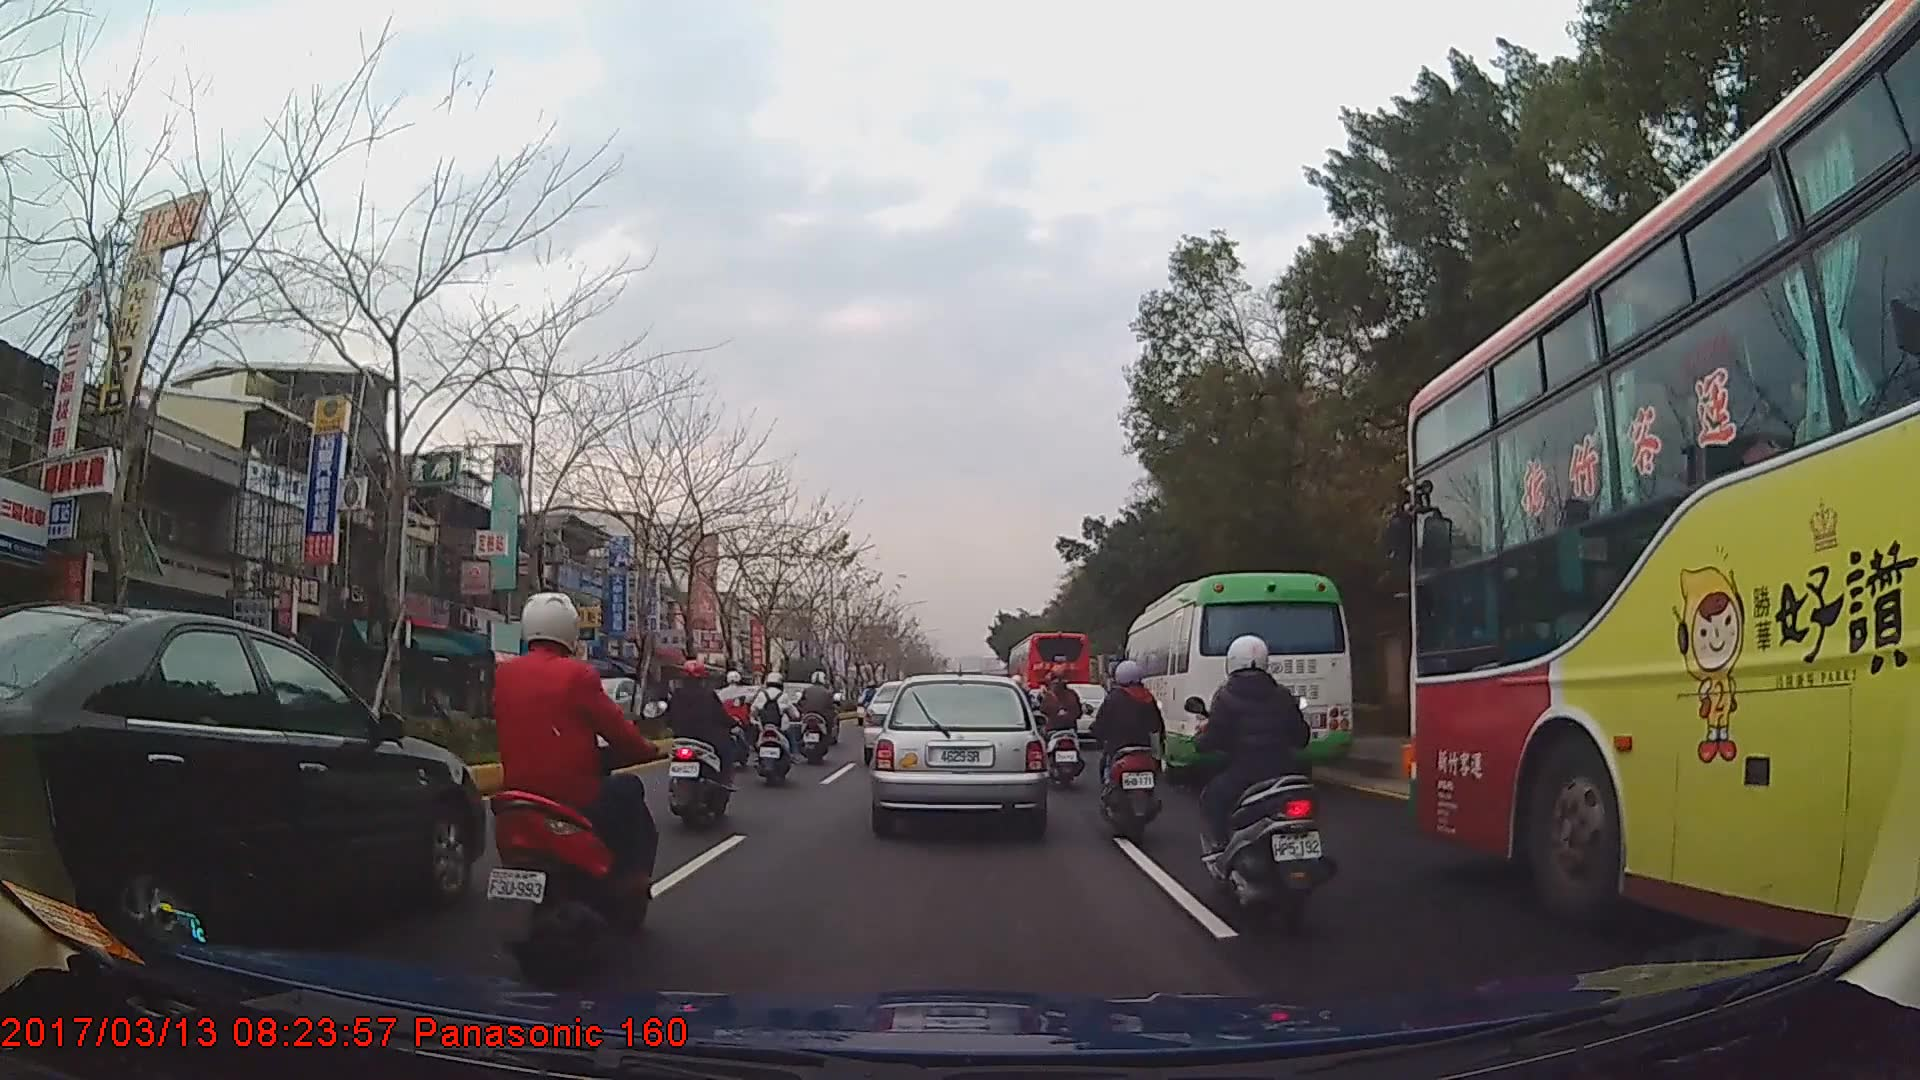rider: (485, 584, 661, 973), (1190, 638, 1345, 937), (1093, 661, 1173, 851), (659, 660, 739, 829), (1040, 659, 1086, 787), (753, 674, 803, 787), (802, 673, 843, 765), (717, 673, 762, 754), (858, 682, 880, 721)
vehicle: (1408, 0, 1919, 960), (0, 601, 482, 963), (1119, 571, 1353, 787), (870, 672, 1043, 832), (1009, 630, 1094, 729), (557, 675, 655, 734)
